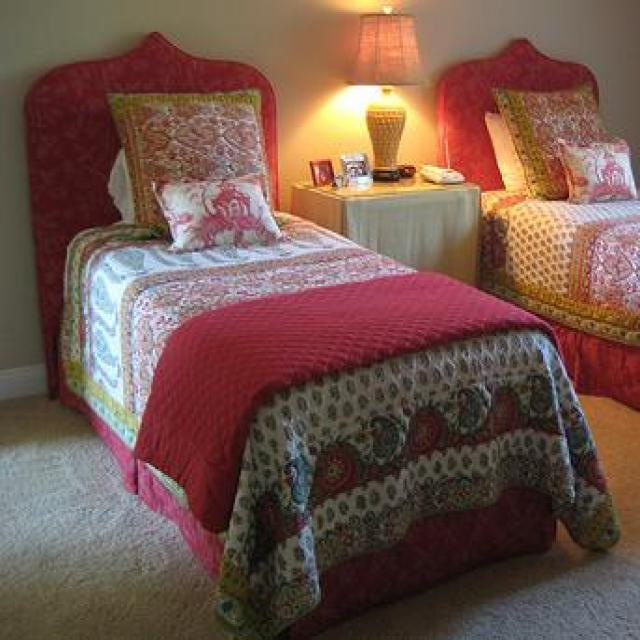bed: (21, 30, 620, 638), (433, 36, 638, 429)
